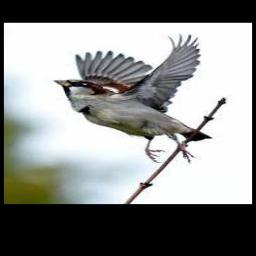Sparrow: (53, 33, 211, 162)
